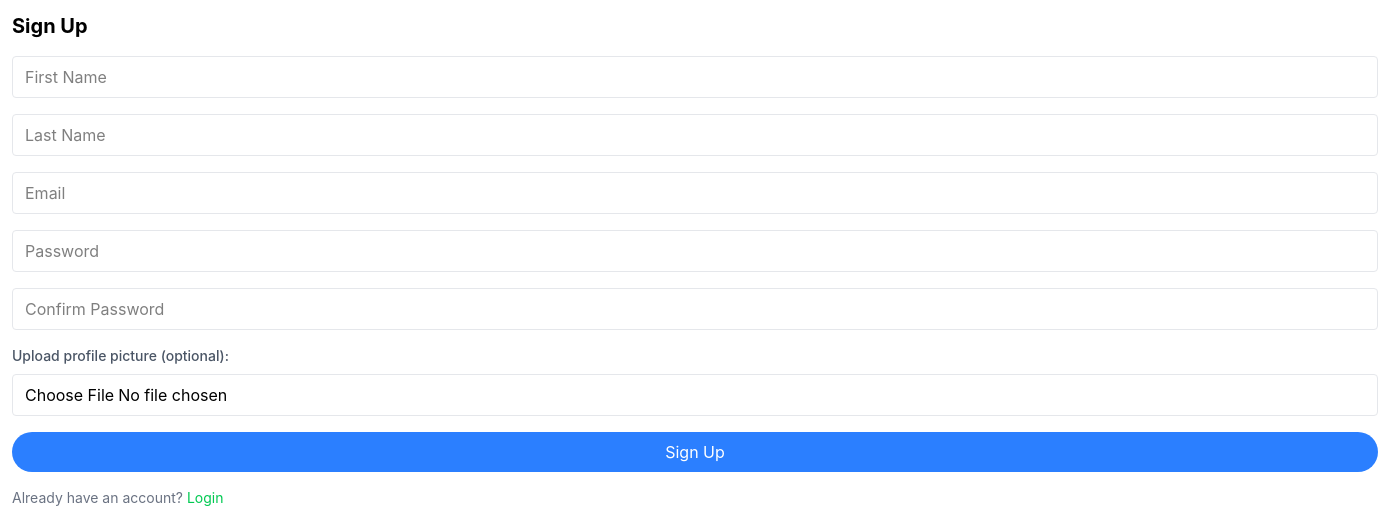
Test: SignupForm › disables the submit button while signing up
The width and height of the screenshot is (1390, 523).
Type "Jane" into the field with placeholder "First Name" at (695, 77), box 12,56 -> 1378,98
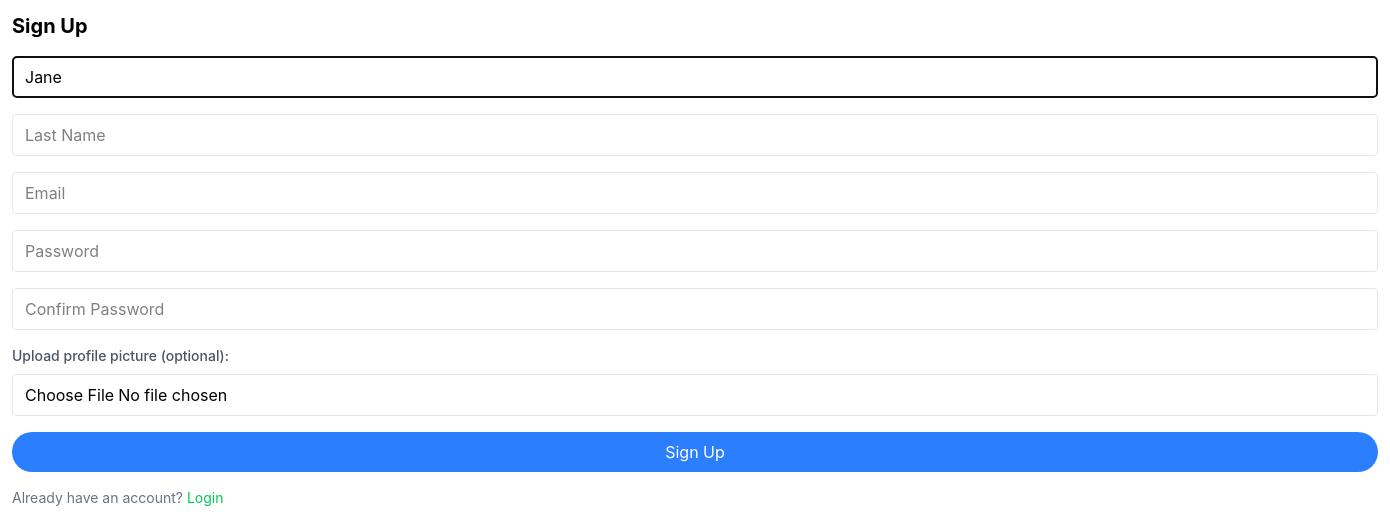
Type "Doe" into the field with placeholder "Last Name" at (695, 135), box 12,114 -> 1378,156
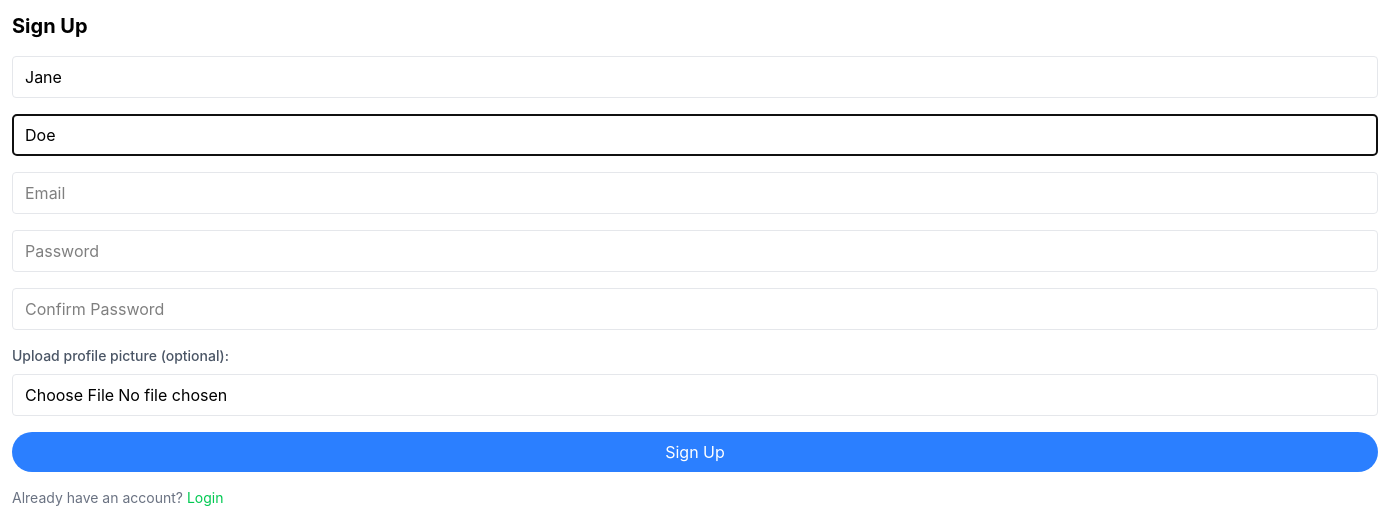
Type "jane@example.com" into the field with placeholder "Email" at (695, 193), box 12,172 -> 1378,214
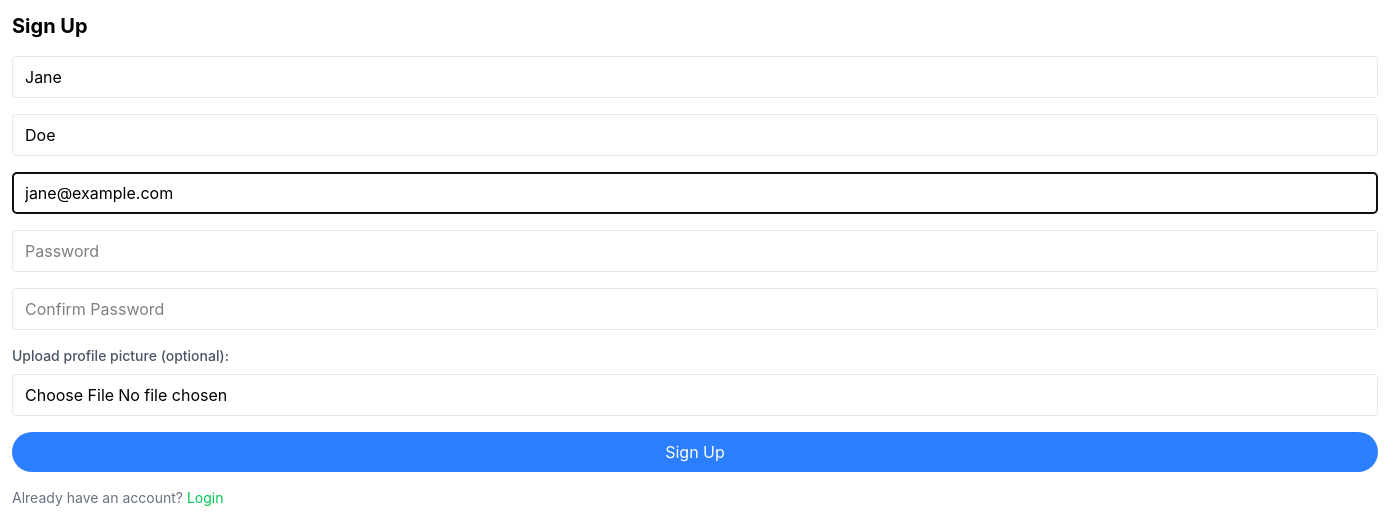
Type "secret123" into the password field with placeholder "Password" at (695, 251), box 12,230 -> 1378,272
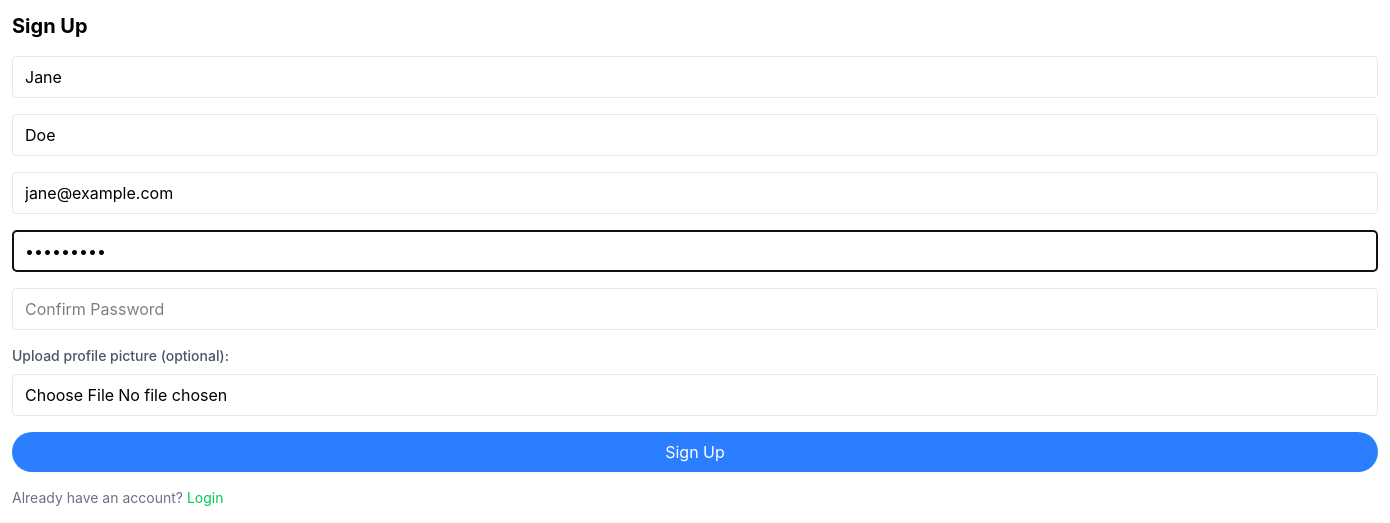
Type "secret123" into the password field with placeholder "Confirm Password" at (695, 309), box 12,288 -> 1378,330
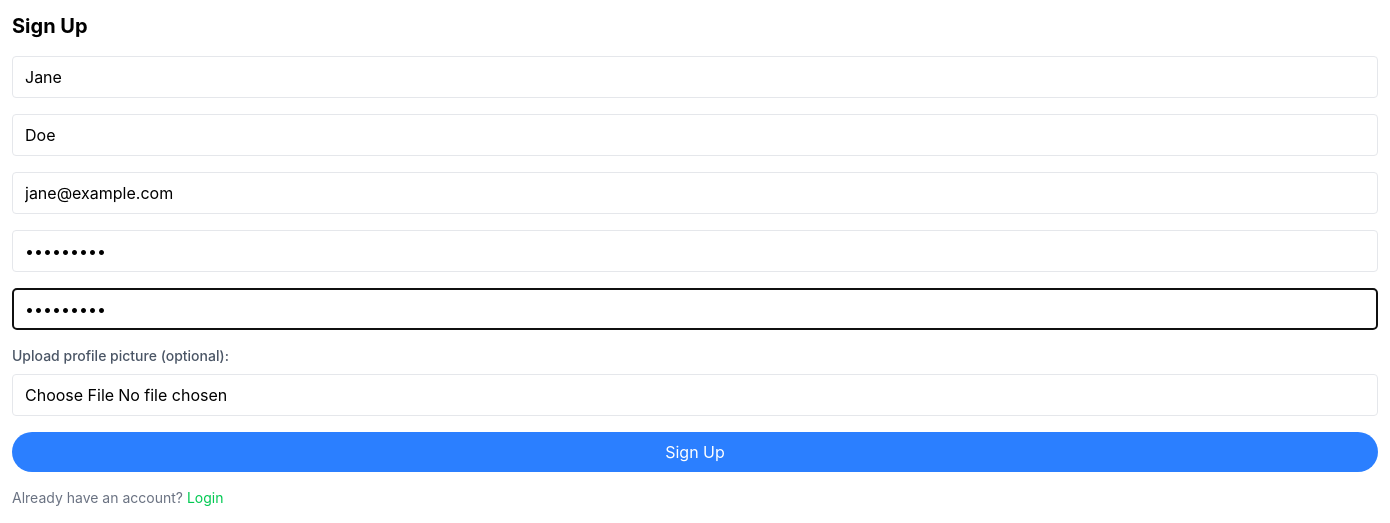
Click the button "Sign Up" at (695, 452), box 12,432 -> 1378,472
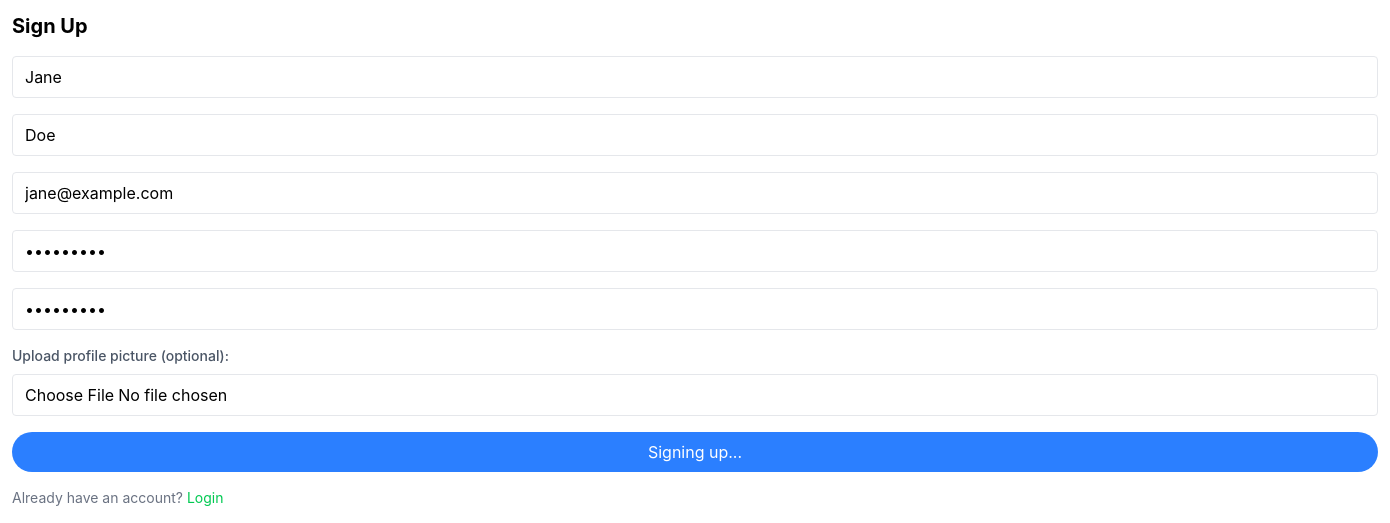
Expected: the button "Signing up..." is disabled, 12,432 -> 1378,472
